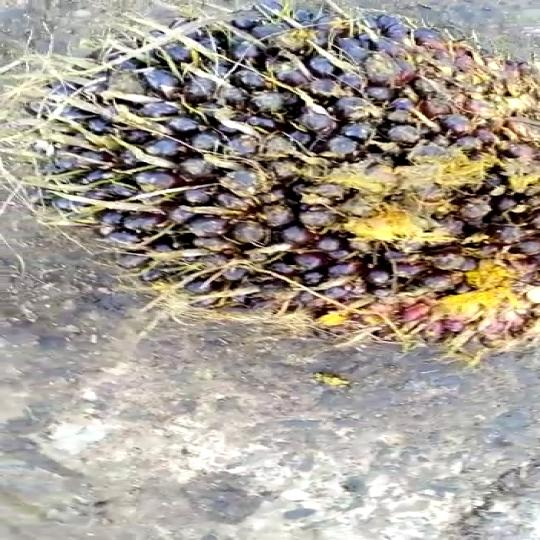mentah: (8, 0, 540, 368)
